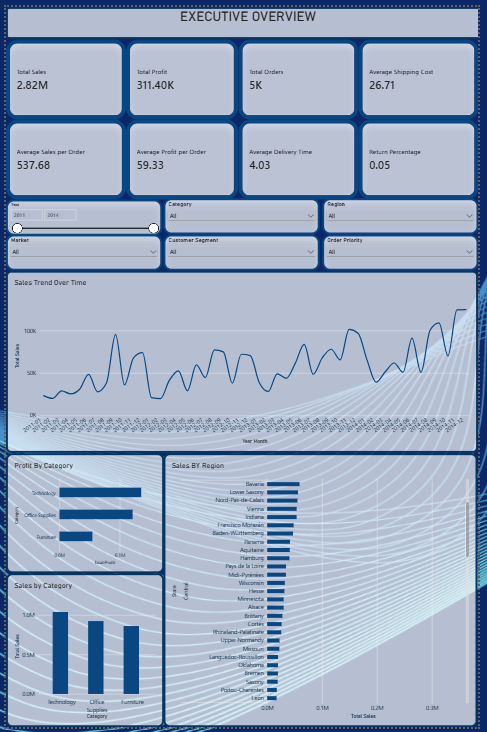

What the dashboard file says about the page in this screenshot:
{"tool":"powerbi","page":{"name":"Executive Overview","canvas":[1180,1800],"ordinal":0},"visuals":[{"type":"cardVisual","fields":{"Data":["Orders.Total Sales"]},"box":[0,80,300,200],"z":0},{"type":"cardVisual","fields":{"Data":["Orders.Total Profit"]},"box":[300,80,280,200],"z":1000},{"type":"cardVisual","fields":{"Data":["Orders.Total Orders"]},"box":[580,80,300,200],"z":2000},{"type":"cardVisual","fields":{"Data":["Orders.Average Sales per Order"]},"box":[0,280,300,200],"z":3000},{"type":"cardVisual","fields":{"Data":["Orders.Average Profit per Order"]},"box":[300,280,280,200],"z":4000},{"type":"cardVisual","fields":{"Data":["Orders.Average Shipping Cost"]},"box":[880,80,300,200],"z":5000},{"type":"cardVisual","fields":{"Data":["Orders.Average Delivery Time"]},"box":[580,280,300,200],"z":6000},{"type":"cardVisual","fields":{"Data":["Returns.Return Percentage"]},"box":[880,280,300,200],"z":7000},{"type":"textbox","title":"EXECUTIVE OVERVIEW","box":[0,0,1200,80],"z":8000},{"type":"slicer","fields":{"Values":["DateTable.Year"]},"box":[0,480,390,90],"z":8001},{"type":"slicer","fields":{"Values":["Orders.Category"]},"box":[395,478.3,390,90],"z":8002},{"type":"slicer","fields":{"Values":["Orders.Region"]},"box":[790,478.3,390,90],"z":8003},{"type":"slicer","fields":{"Values":["Orders.Segment"]},"box":[395,570,390,90],"z":8004},{"type":"slicer","fields":{"Values":["Orders.Market"]},"box":[0,570,390,90],"z":8005},{"type":"slicer","fields":{"Values":["Orders.Order Priority"]},"box":[790,570,390,90],"z":8006},{"type":"lineChart","title":" Sales Trend Over Time","fields":{"Category":["DateTable.Year Month"],"Y":["Orders.Total Sales"]},"box":[0,660,1180,455],"z":8007},{"type":"clusteredBarChart","title":"Sales BY Region","fields":{"Category":["Orders.Region","Orders.State"],"Y":["Orders.Total Sales"]},"box":[0,1116.7,600,683.3],"z":8010},{"type":"clusteredBarChart","title":"Profit By region","fields":{"Y":["Orders.Total Profit"],"Category":["Orders.Region","Orders.State"]},"box":[600,1116.7,580,683.3],"z":8011}]}

Visuals, with their boxes in screenshot pixels (x1, y1, x2, y2), scaled from the page's 1180x1800 canvas onto the 487x732 screenshot:
cardVisual - Orders.Total Sales: box(0, 33, 124, 114)
cardVisual - Orders.Total Profit: box(124, 33, 239, 114)
cardVisual - Orders.Total Orders: box(239, 33, 363, 114)
cardVisual - Orders.Average Sales per Order: box(0, 114, 124, 195)
cardVisual - Orders.Average Profit per Order: box(124, 114, 239, 195)
cardVisual - Orders.Average Shipping Cost: box(363, 33, 486, 114)
cardVisual - Orders.Average Delivery Time: box(239, 114, 363, 195)
cardVisual - Returns.Return Percentage: box(363, 114, 486, 195)
"EXECUTIVE OVERVIEW" textbox: box(0, 0, 486, 33)
slicer - DateTable.Year: box(0, 195, 161, 232)
slicer - Orders.Category: box(163, 195, 324, 231)
slicer - Orders.Region: box(326, 195, 486, 231)
slicer - Orders.Segment: box(163, 232, 324, 268)
slicer - Orders.Market: box(0, 232, 161, 268)
slicer - Orders.Order Priority: box(326, 232, 486, 268)
" Sales Trend Over Time" lineChart: box(0, 268, 486, 453)
"Sales BY Region" clusteredBarChart: box(0, 454, 248, 731)
"Profit By region" clusteredBarChart: box(248, 454, 486, 731)
